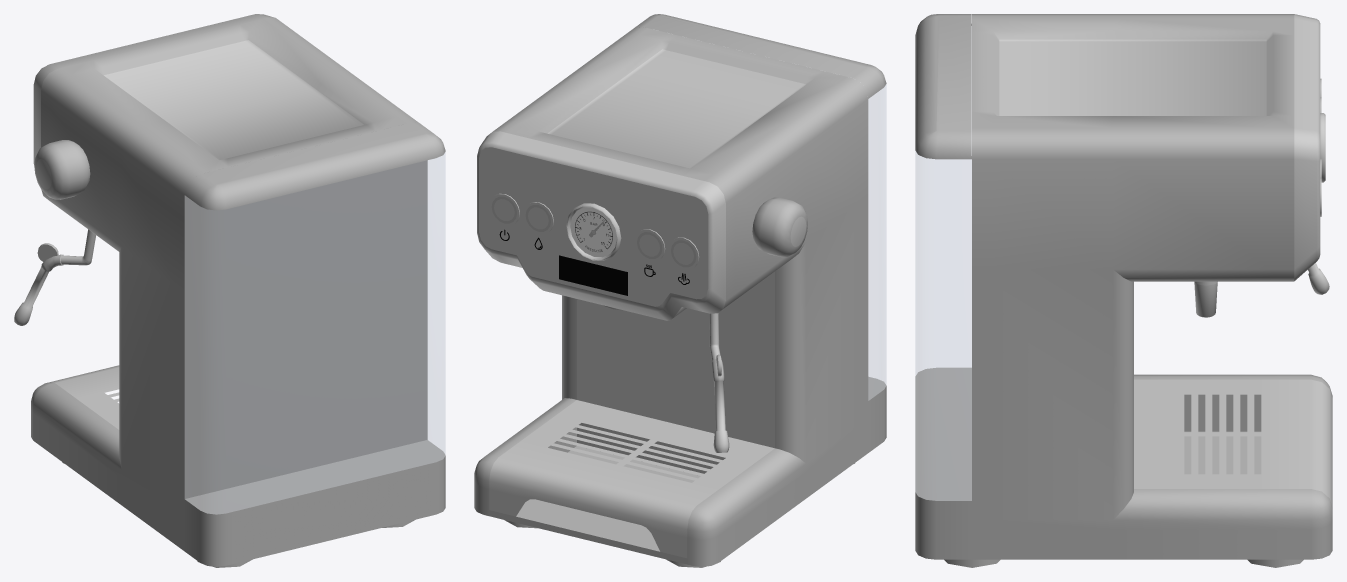
File: Machine_Espresso.fbx
The picture shows the model from 3 angles, left to right: view 1: azimuth 30°, elevation 25°; view 2: azimuth 150°, elevation 25°; view 3: azimuth 270°, elevation 25°; orthographic projection. The views are drawn at different scales.
Parts seen in each view (by area): view 1: Machine_Espresso, Machine_Espresso btn_Steam; view 2: Machine_Espresso, Machine_Espresso btn_Steam, Machine_Espresso btn_4, Machine_Espresso btn_2, Machine_Espresso btn_3, Machine_Espresso btn_1; view 3: Machine_Espresso.
Part boxes in pixels (box(x1,y1,x2,y2)): Machine_Espresso: box(14, 14, 445, 567); Machine_Espresso btn_Steam: box(34, 140, 90, 199); Machine_Espresso: box(474, 14, 886, 567); Machine_Espresso btn_Steam: box(752, 197, 807, 257); Machine_Espresso btn_4: box(668, 237, 699, 269); Machine_Espresso btn_2: box(523, 202, 553, 234); Machine_Espresso btn_3: box(634, 229, 665, 261); Machine_Espresso btn_1: box(489, 193, 519, 225); Machine_Espresso: box(915, 14, 1332, 567).
Size of the model in its own units: 0.3345 by 0.387 by 0.4452.
